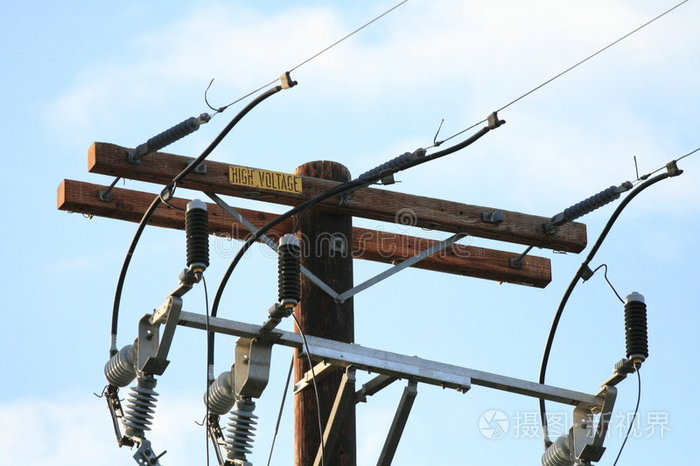insulator: (221, 409, 257, 459), (184, 207, 213, 267), (124, 387, 156, 438), (275, 243, 303, 301), (621, 300, 649, 358), (101, 345, 140, 386), (203, 370, 236, 413), (540, 437, 572, 466)
